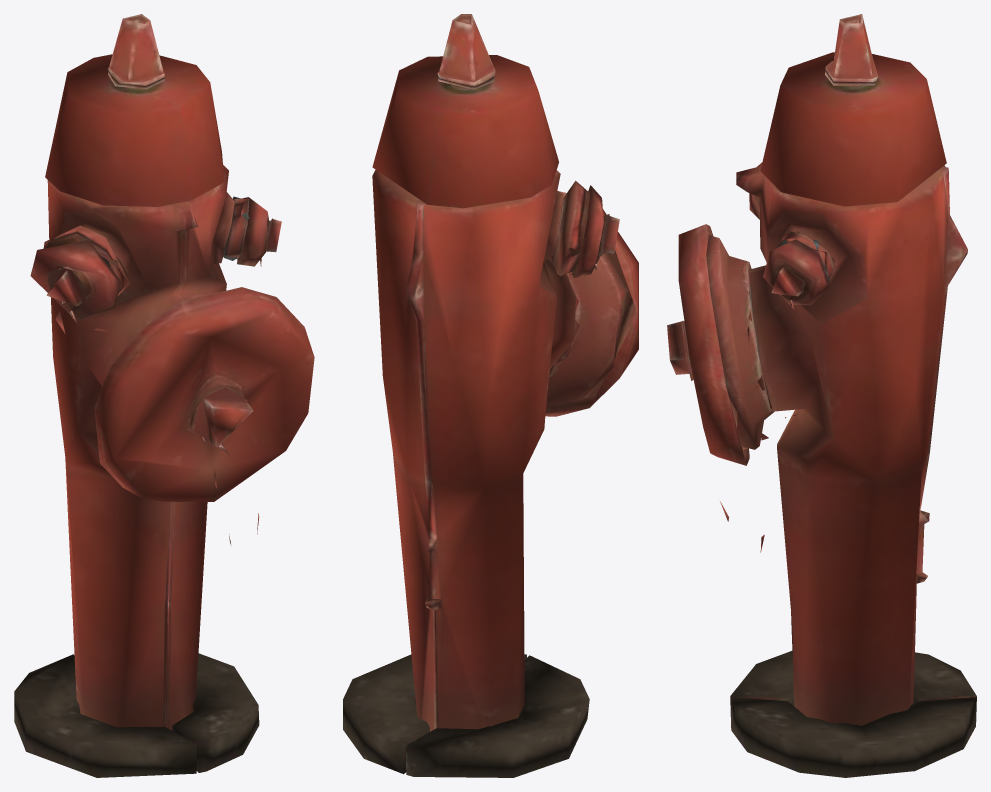
Rendered from ph_hydrant.glb.
3 views of the same model, side by side, from view 1: azimuth 30°, elevation 25°; view 2: azimuth 150°, elevation 25°; view 3: azimuth 270°, elevation 25° (orthographic).
Visible parts, largest first — view 1: fire_hydrant; view 2: fire_hydrant; view 3: fire_hydrant.
Boxes of the visible parts, x1,y1,x2,y2 form: fire_hydrant: (14, 14, 314, 777); fire_hydrant: (343, 14, 638, 777); fire_hydrant: (667, 14, 976, 777).
Size of the model in its own units: 0.2728 by 0.7992 by 0.3173.
1 material, 1 textured.
